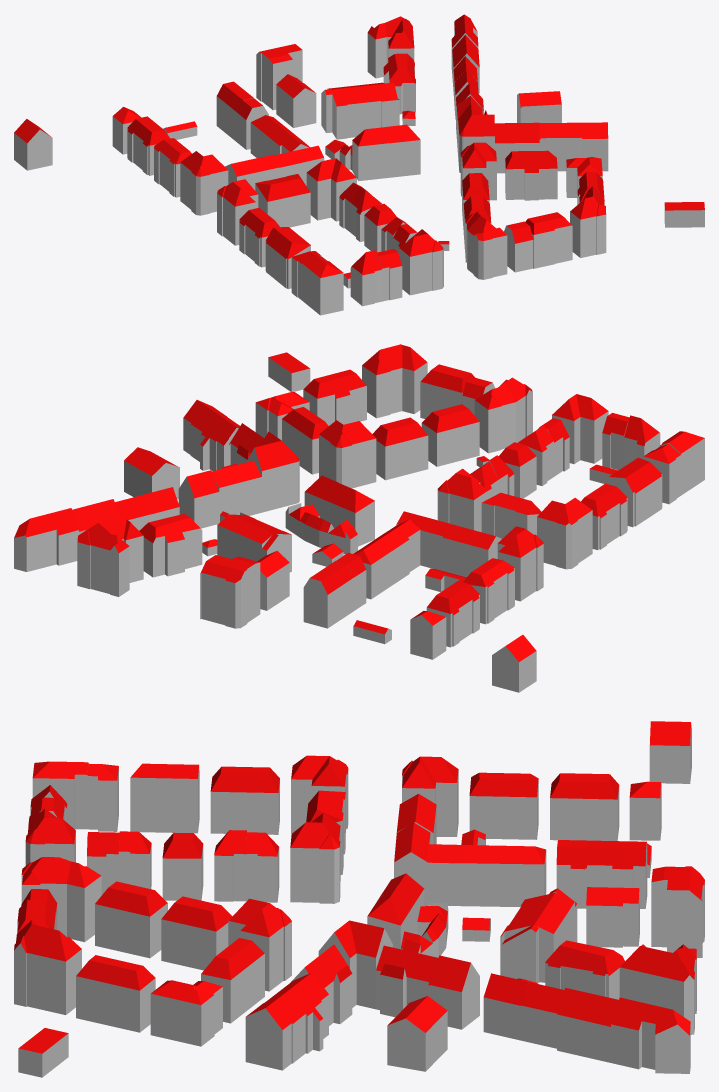
The picture shows the model from 3 angles, top to bottom: view 1: azimuth 30°, elevation 25°; view 2: azimuth 150°, elevation 25°; view 3: azimuth 270°, elevation 25°; orthographic projection. The views are drawn at different scales.
Bounding box in the file's own units: 204 × 23.29 × 191.
